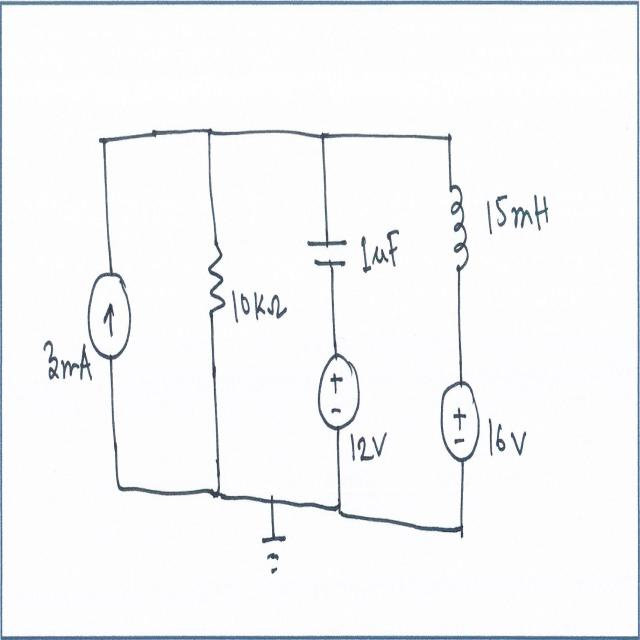capacitor: (304, 233, 351, 276)
current_source: (86, 264, 138, 364)
ground: (260, 529, 288, 578)
inductor: (447, 178, 470, 284)
resistor: (203, 238, 229, 320)
voltage_source: (314, 347, 362, 437), (439, 376, 483, 471)
